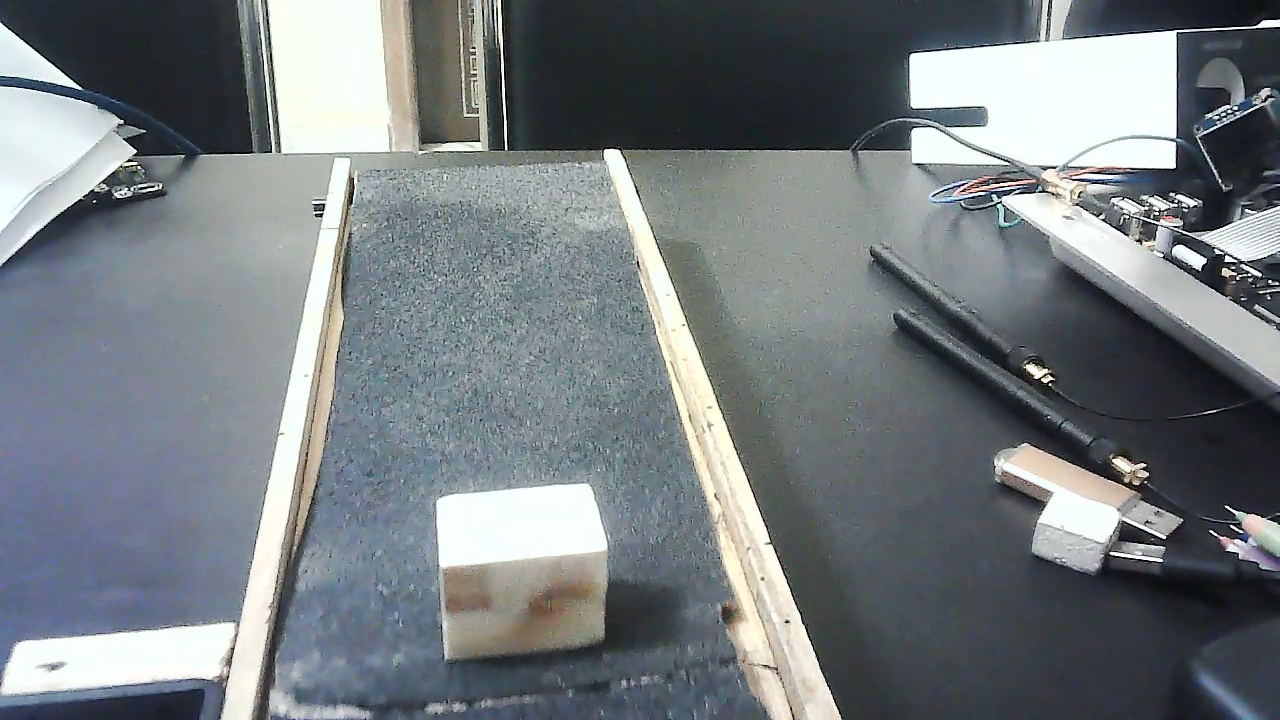Medium: (434, 483, 612, 661)
